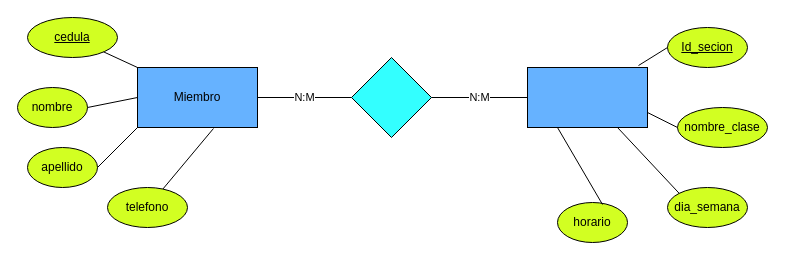
The diagram is 785 pixels wide and 260 high, and some of its shapes have lost their labels. Here are the shapes that lost their labels. From the top down, the box of each, then its label:
(350, 56, 432, 138): Inscripcion
(526, 66, 648, 128): Clases
